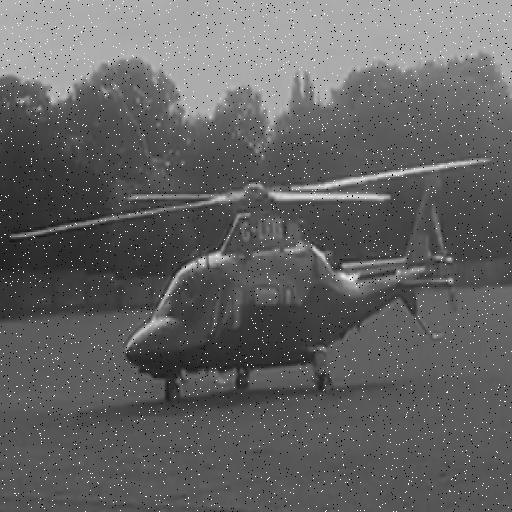helicopter: (9, 144, 498, 408)
